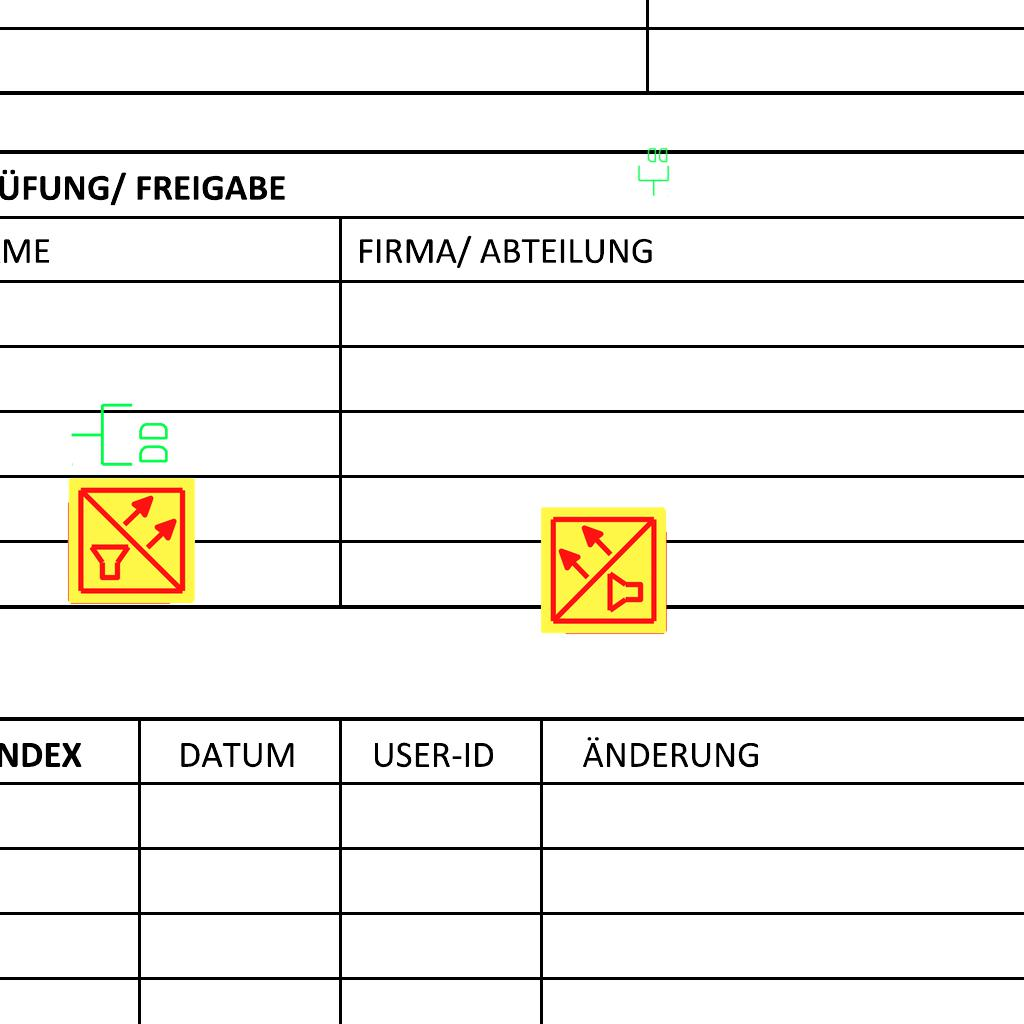Datenanschluss_zweifach: (69, 401, 172, 470), (637, 146, 671, 197)
OKW_Multisensormelder_(Kombination_optischer_Rauch-Kahlenmonoxid_Waerme-Melder): (538, 504, 670, 636), (66, 475, 198, 607)
